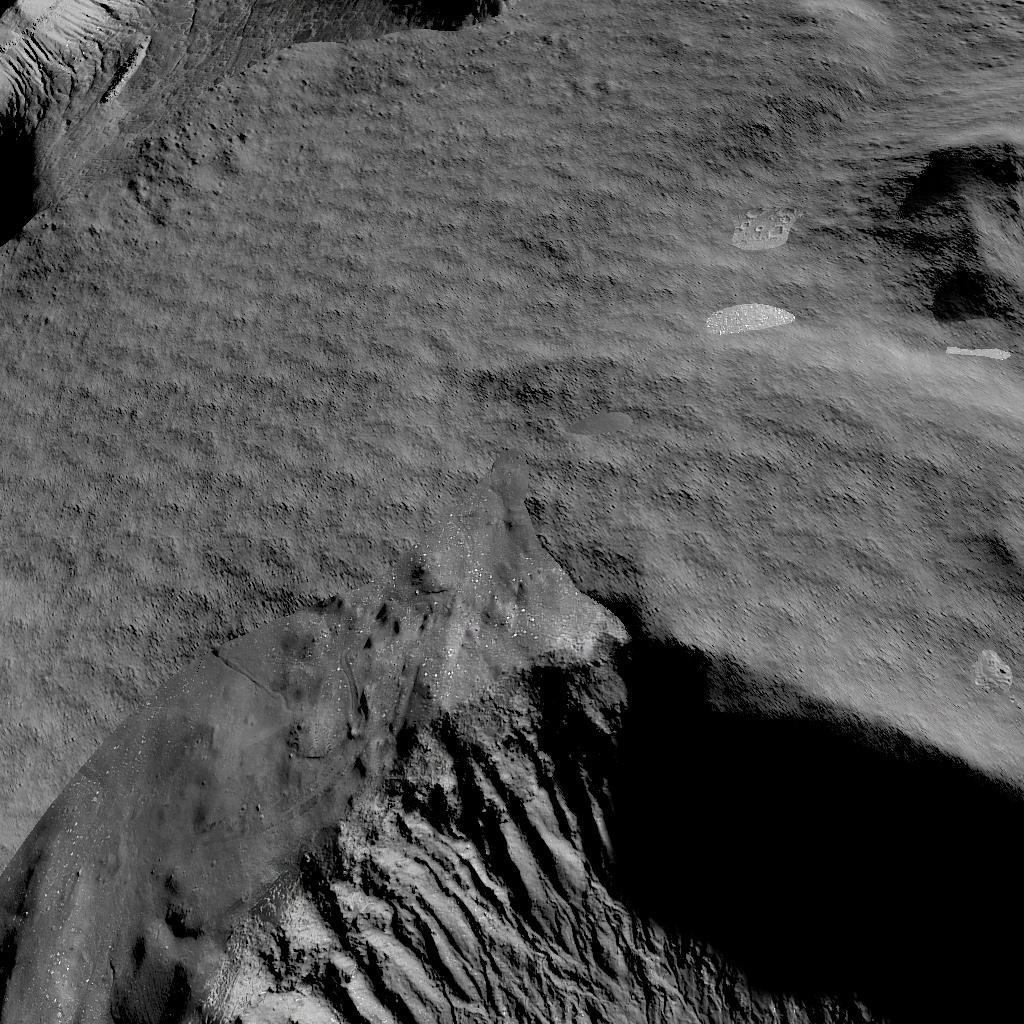Boulders: (0, 0, 512, 245)
Crater: (0, 502, 1024, 1024), (844, 130, 1024, 338)
Plan surface: (2, 286, 798, 462), (534, 0, 820, 274)
